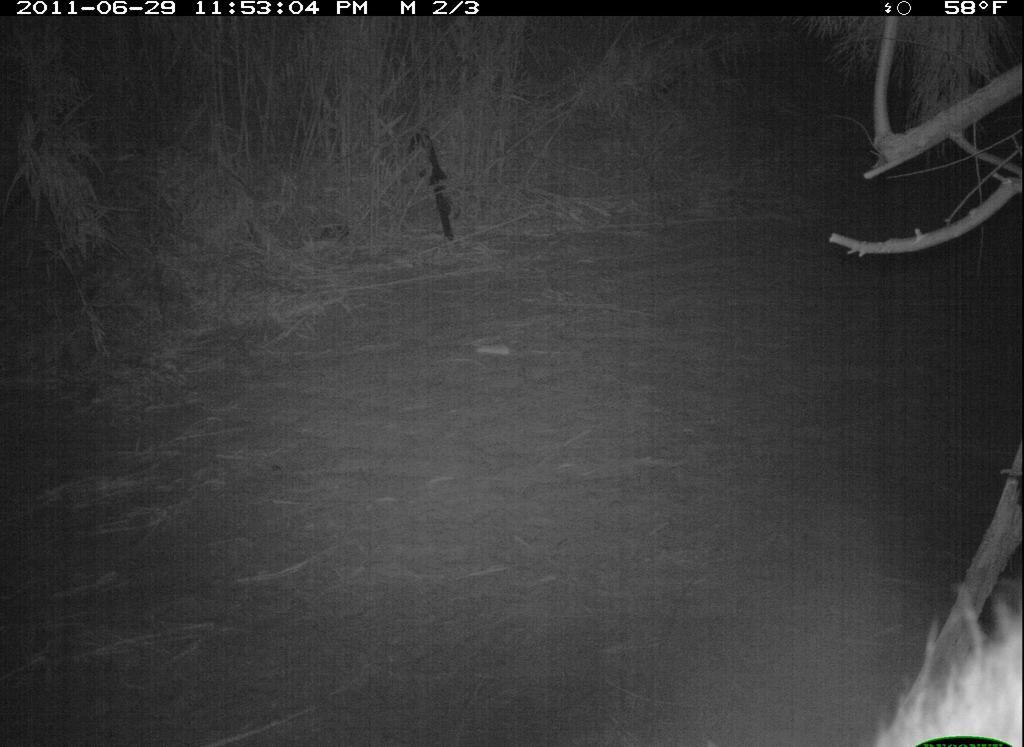raccoon: (848, 568, 1019, 747)
